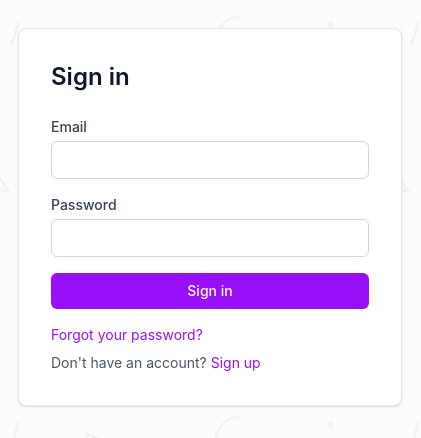
Test: LoginPage › валидация формы (zod) › адрес без доменной зоны браузер пропускает, а схема — нет
Type "user@example" into the field labelled "Email".
click(210, 160); type("user@example")  # box [51,141,369,179]
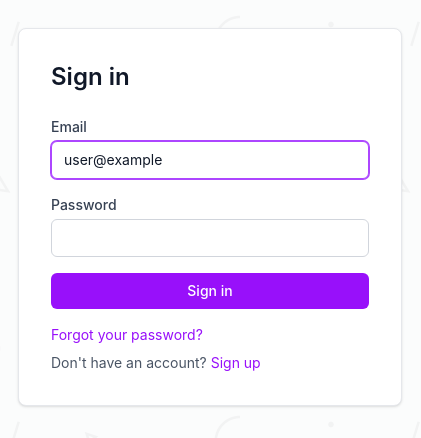
Type "secret123" into the password field labelled "Password".
click(210, 238); type("secret123")  # box [51,219,369,257]
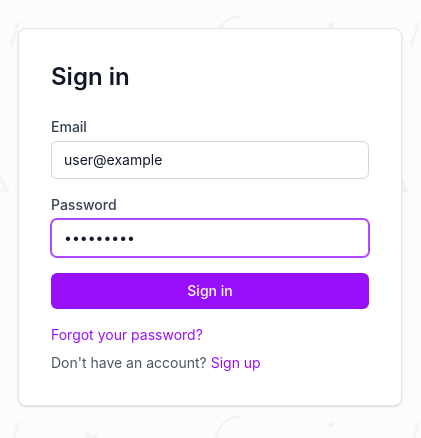
Click the button "Sign in".
click(210, 291)  # box [51,273,369,309]
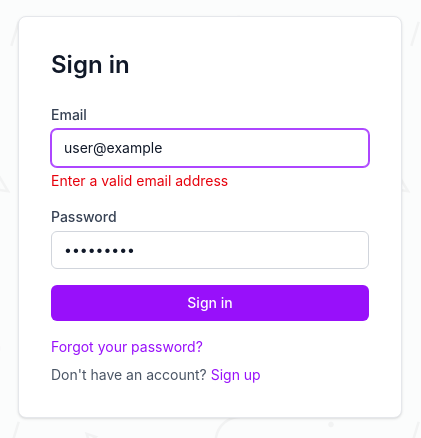
Expected: the text "Enter a valid email address" is shown, [51,172,228,189]
